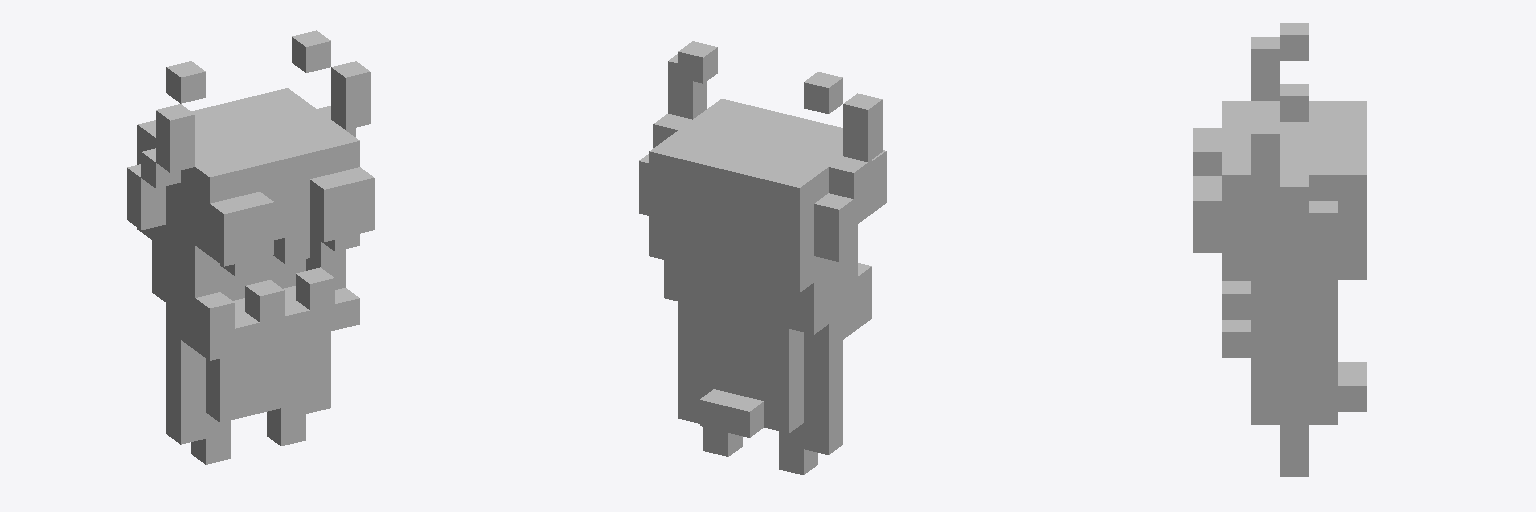
Rendered from SL_Yeti.obj.
3 views of the same model, side by side, from view 1: azimuth 30°, elevation 25°; view 2: azimuth 150°, elevation 25°; view 3: azimuth 270°, elevation 25° (orthographic).
Visible parts, largest first — view 1: SL_Yeti; view 2: SL_Yeti; view 3: SL_Yeti.
Part boxes in pixels (left/top/right/bottom): SL_Yeti: left=127, top=30, right=374, bottom=464; SL_Yeti: left=639, top=41, right=886, bottom=474; SL_Yeti: left=1193, top=23, right=1366, bottom=476.
Size of the model in its own units: 8 by 15 by 6.